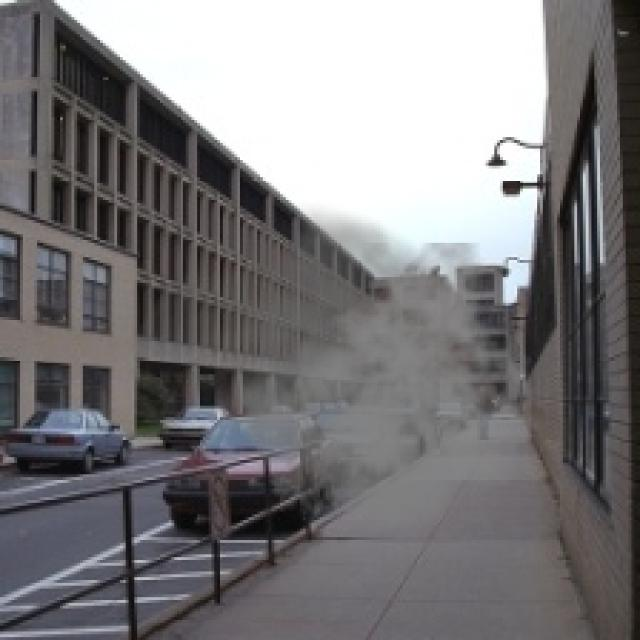smoke: (131, 200, 543, 554)
